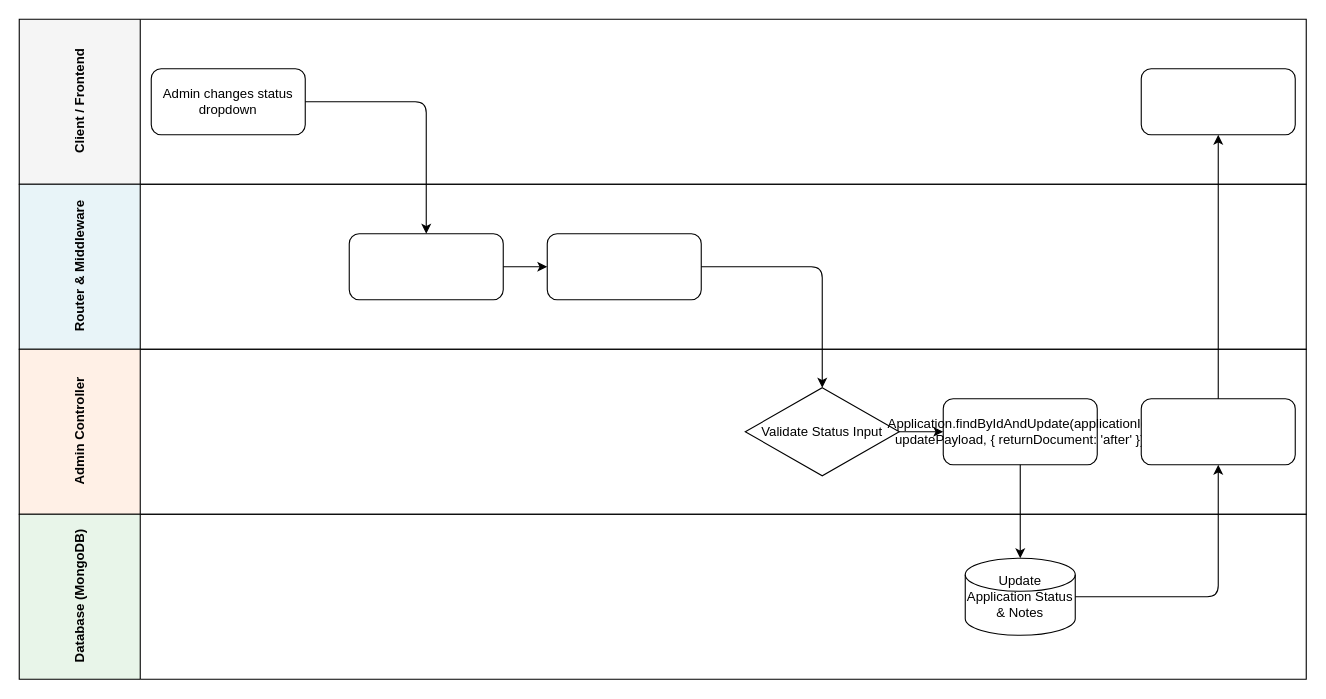
Image size: 1326x699. Some labels were removed from this diagram. Each missing label, with the centre of its shape:
"HTTP 200 OK with updated application JSON" belongs at point (1217, 431).
"PATCH /application/:applicationId/status" belongs at point (425, 266).
"Refresh Application Status in UI" belongs at point (1217, 101).
"verifyJWT & verifyAdmin" belongs at point (623, 266).
